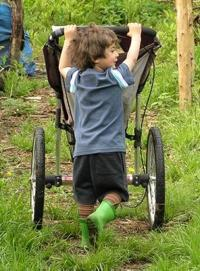person: (59, 22, 143, 248)
